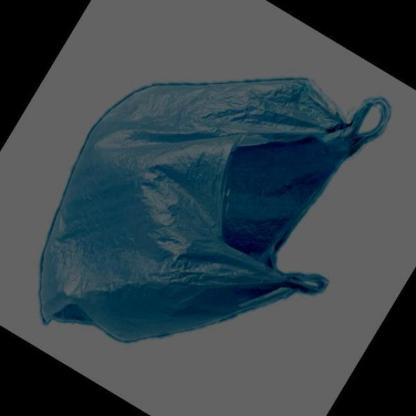Plastic Bag: (38, 78, 390, 343)
